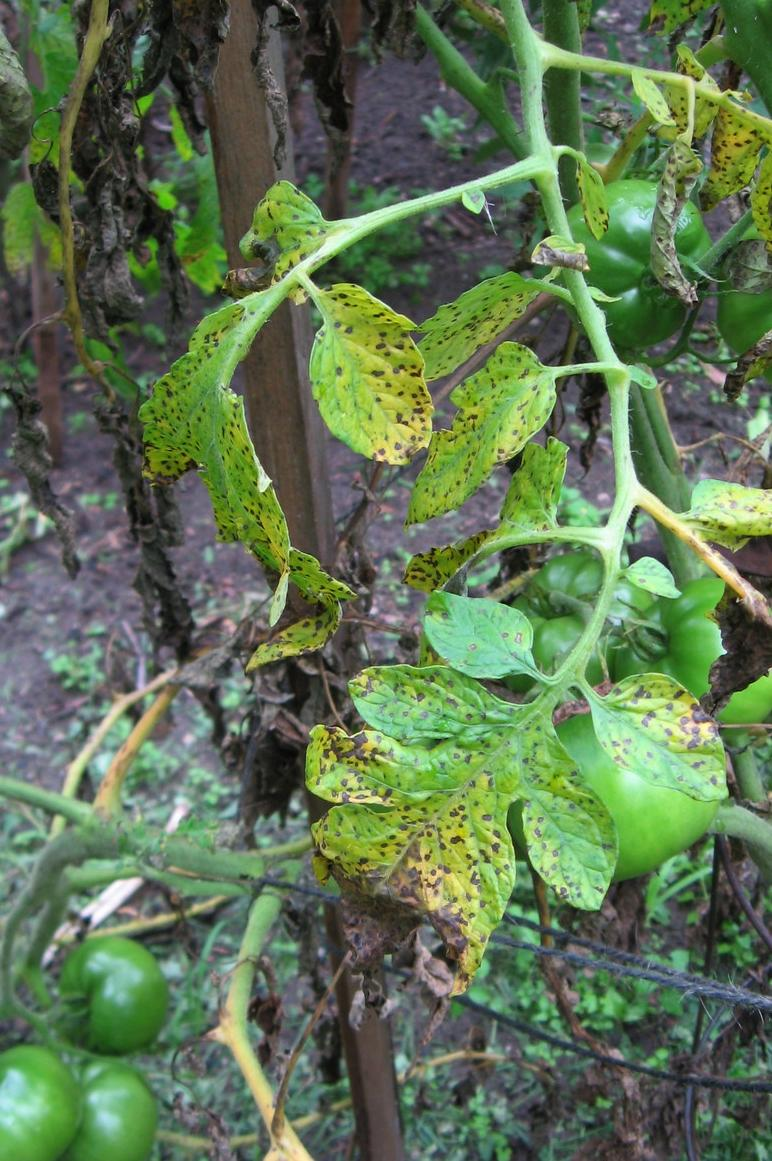Tomato Septoria leaf spot: (289, 641, 602, 985), (102, 254, 358, 627), (400, 334, 574, 547), (285, 274, 438, 468), (588, 676, 748, 809), (665, 464, 772, 544)
